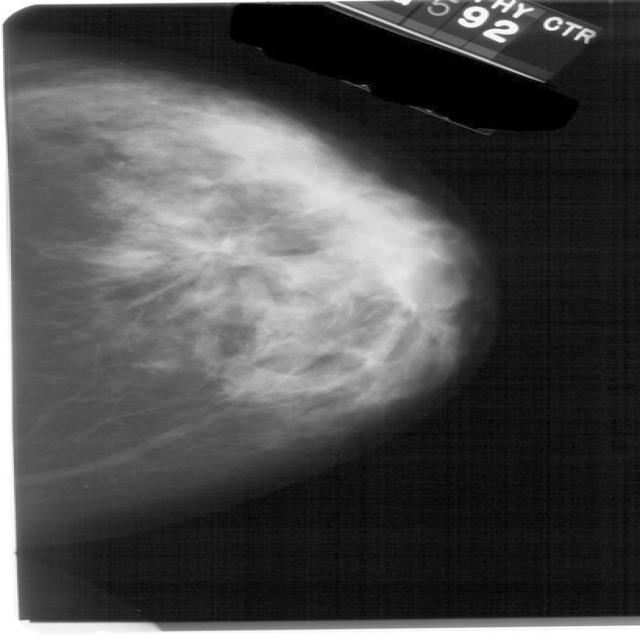tumour: (178, 228, 253, 268)
